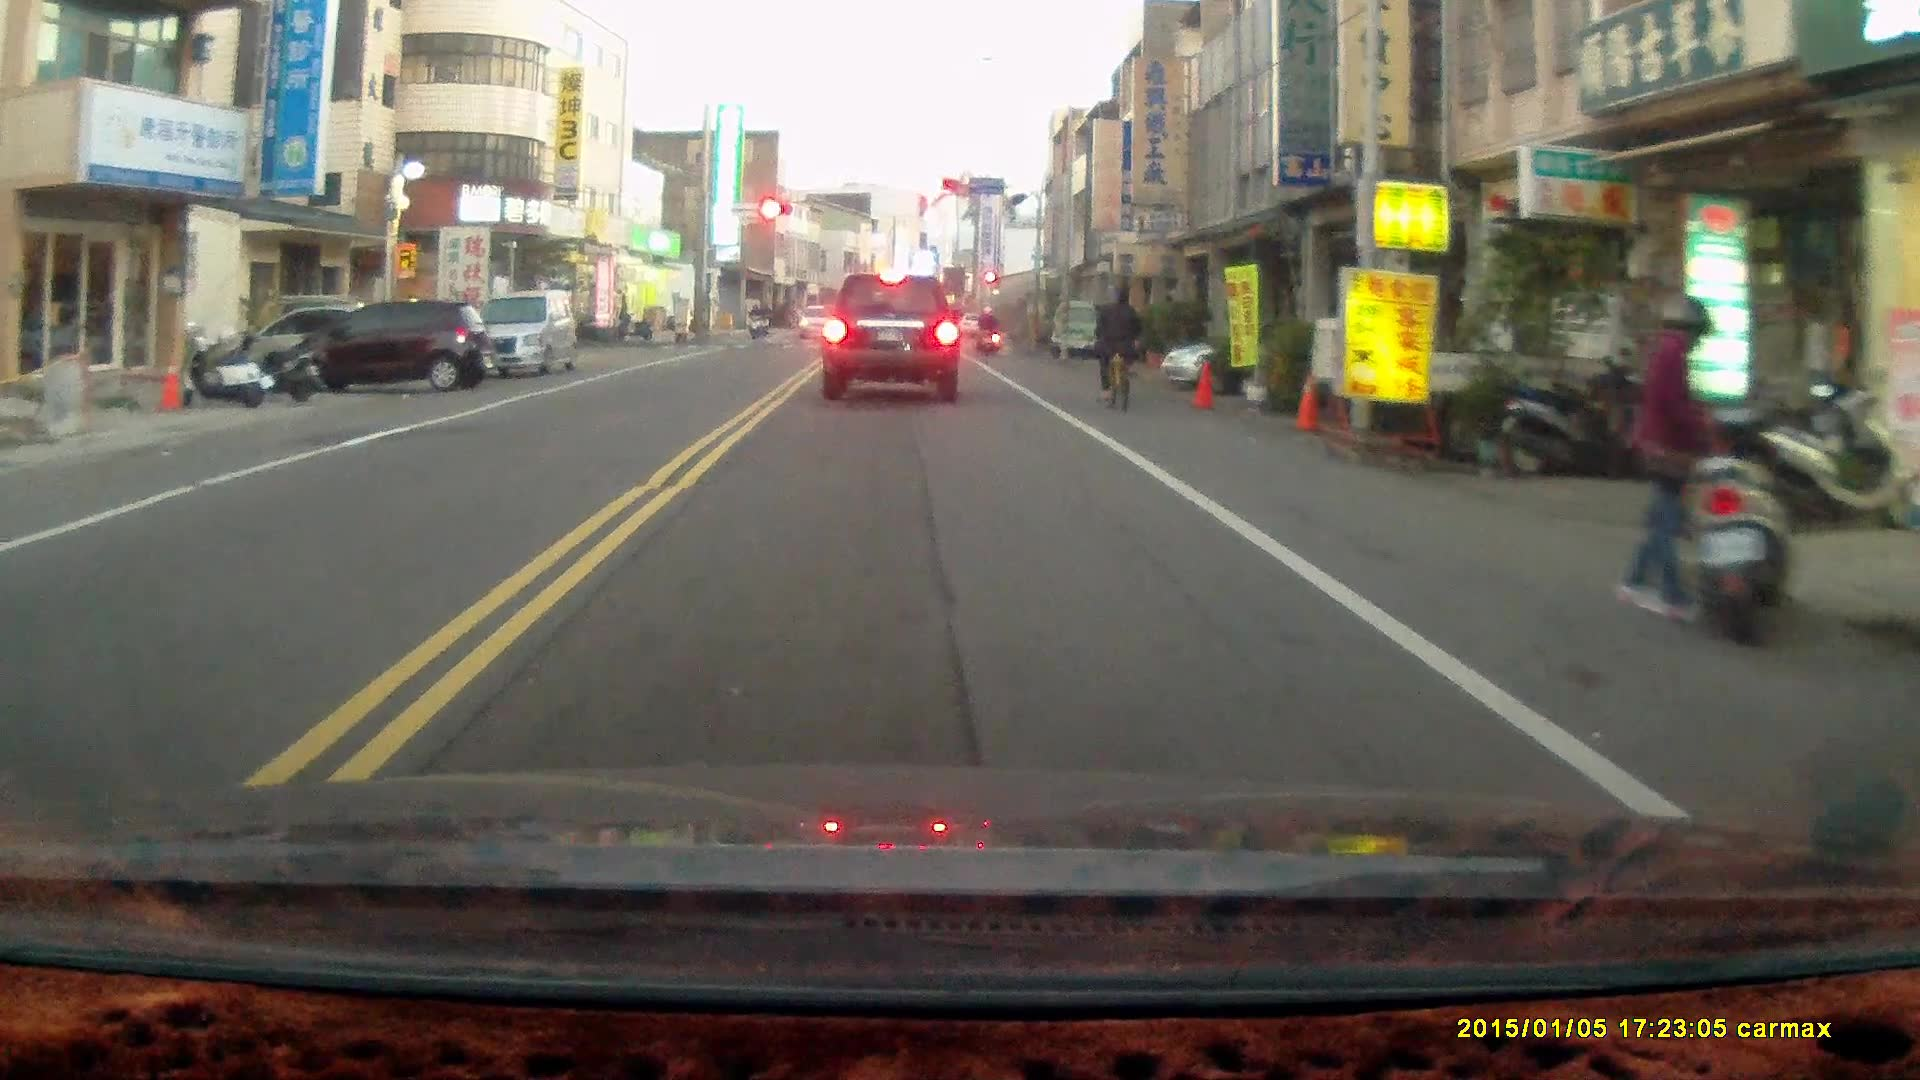pedestrian: (1615, 293, 1727, 626)
rider: (1093, 278, 1144, 409), (973, 298, 999, 353), (745, 300, 767, 340)
vehicle: (284, 300, 492, 401), (820, 270, 962, 404), (1159, 321, 1391, 392), (454, 286, 581, 379)
